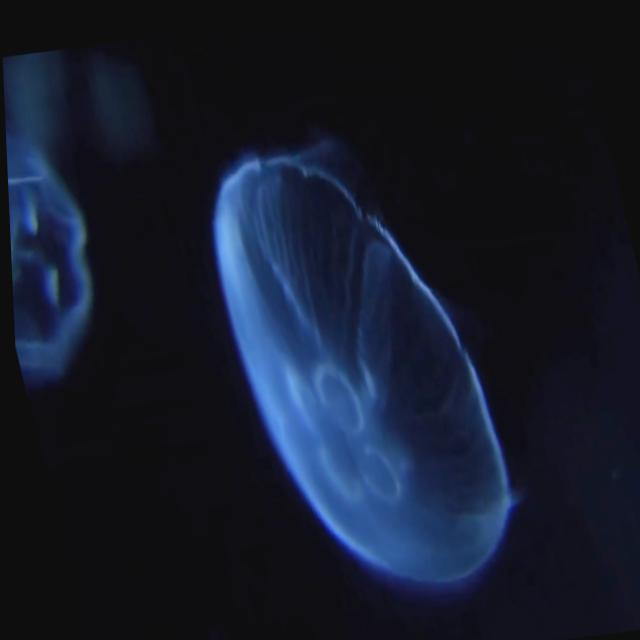Moon-jellyfish: (206, 112, 514, 580), (3, 96, 90, 390)
